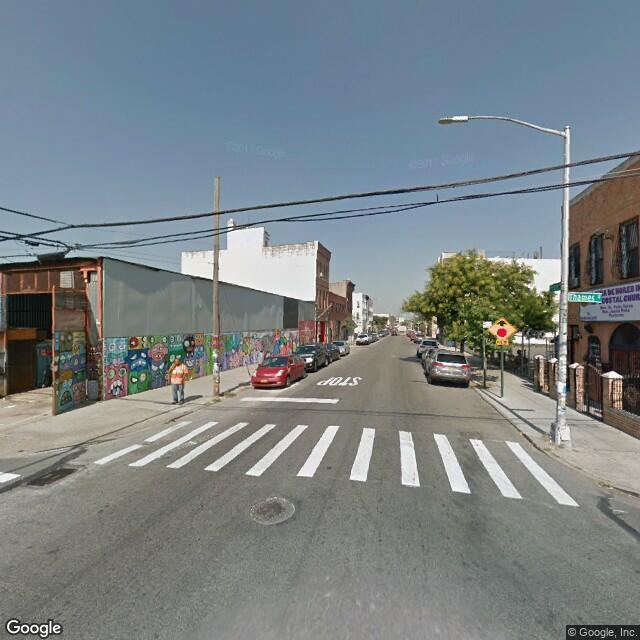litter: (544, 431, 553, 443), (605, 483, 615, 493)
